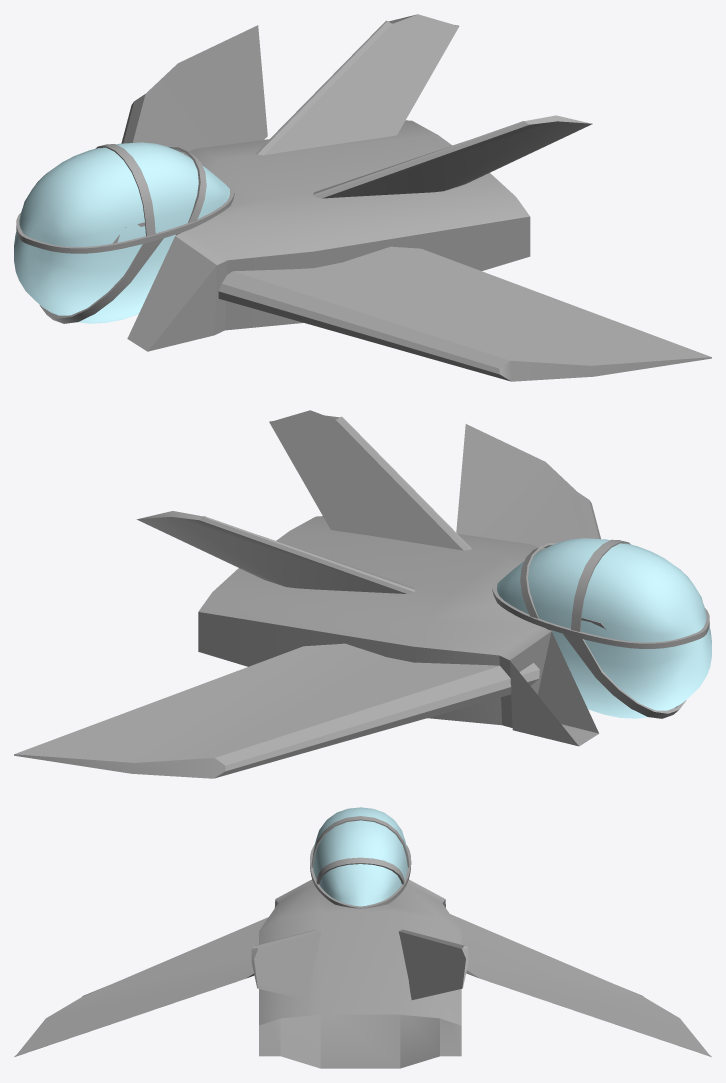
File: airship.fbx
The picture shows the model from 3 angles, top to bottom: view 1: azimuth 30°, elevation 25°; view 2: azimuth 150°, elevation 25°; view 3: azimuth 270°, elevation 25°; orthographic projection. The views are drawn at different scales.
Visible parts, largest first — view 1: pCube55, pCube58, pCube57, pCube36, pasted__pCube58, pCube42, f3, f5, f1, f4; view 2: pCube55, pasted__pCube58, pCube57, pCube36, pCube58, pCube42, f3, f5, f1, f4; view 3: pCube55, pasted__pCube58, pCube58, pCube57, pCube36, f3, f4, f1.
Boxes of the visible parts, x1=… form: pCube55: x1=127, y1=120, x2=530, y2=351; pCube58: x1=218, y1=246, x2=711, y2=381; pCube57: x1=255, y1=14, x2=592, y2=198; pCube36: x1=19, y1=142, x2=229, y2=246; pasted__pCube58: x1=121, y1=25, x2=267, y2=153; pCube42: x1=14, y1=231, x2=175, y2=323; f3: x1=16, y1=181, x2=234, y2=253; f5: x1=39, y1=238, x2=163, y2=323; f1: x1=95, y1=144, x2=155, y2=236; f4: x1=169, y1=147, x2=206, y2=223; pCube55: x1=198, y1=516, x2=598, y2=746; pasted__pCube58: x1=14, y1=643, x2=539, y2=778; pCube57: x1=136, y1=410, x2=471, y2=593; pCube36: x1=497, y1=538, x2=706, y2=642; pCube58: x1=456, y1=424, x2=600, y2=549; pCube42: x1=550, y1=626, x2=711, y2=718; f3: x1=492, y1=576, x2=709, y2=648; f5: x1=563, y1=633, x2=686, y2=718; f1: x1=571, y1=539, x2=630, y2=631; f4: x1=520, y1=543, x2=556, y2=618; pCube55: x1=259, y1=879, x2=461, y2=1068; pasted__pCube58: x1=450, y1=914, x2=711, y2=1056; pCube58: x1=14, y1=917, x2=268, y2=1056; pCube57: x1=251, y1=929, x2=468, y2=1000; pCube36: x1=313, y1=807, x2=407, y2=906; f3: x1=310, y1=845, x2=411, y2=908; f4: x1=316, y1=857, x2=404, y2=884; f1: x1=311, y1=816, x2=409, y2=867.
Size of the model in its own units: 27.8 by 9.67 by 43.46.
